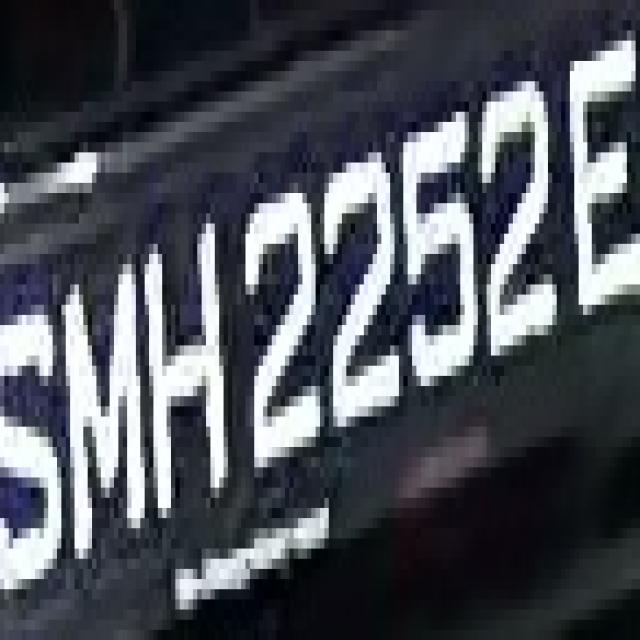2: (224, 152, 320, 498), (307, 112, 403, 447), (460, 71, 561, 356)
5: (390, 102, 491, 396)
E: (552, 20, 640, 325)
H: (136, 172, 228, 558)
M: (61, 234, 158, 569)
S: (4, 243, 62, 620)
